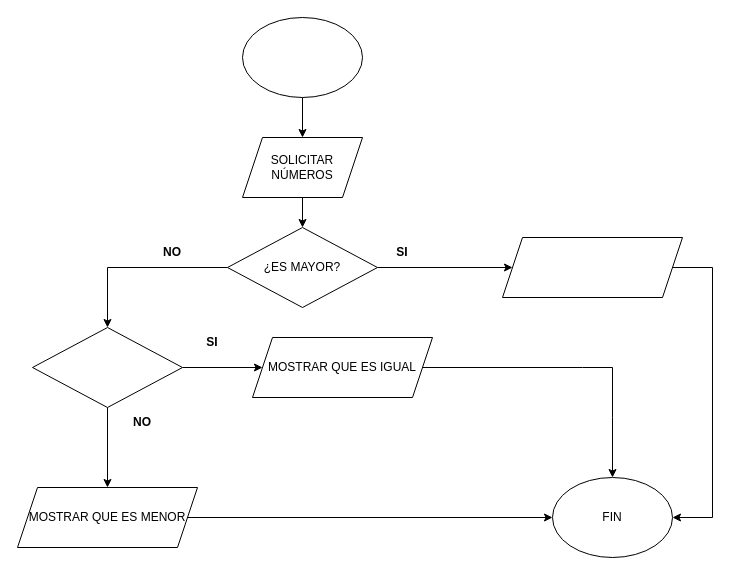
This 738x575 diagram has some shape labels left out. The shapes that lost their labels are listed below. From the top down, each one's box as (x1, y1, x2, y2) in pixels, then its label:
(242, 16, 362, 98): INICIO
(502, 236, 682, 298): MOSTRAR QUE ES MAYOR
(32, 326, 182, 408): ¿ES IGUAL?
